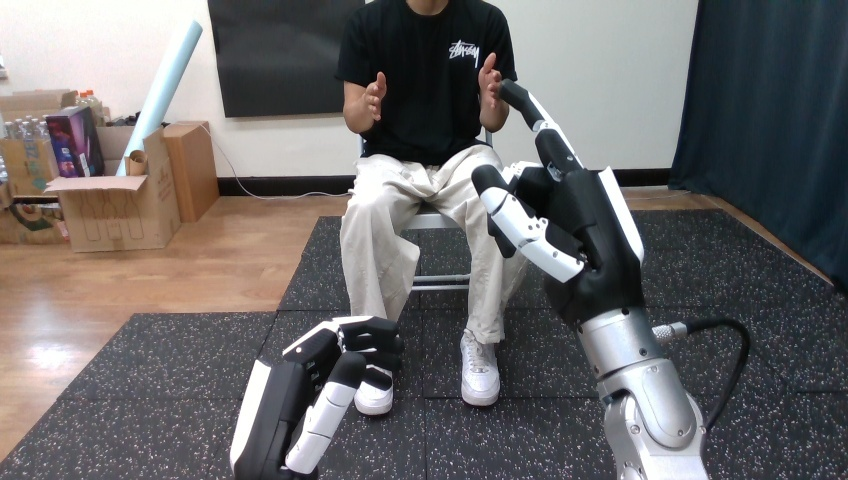left robot hand: (472, 79, 749, 479), (230, 316, 402, 479), (660, 324, 743, 424)
